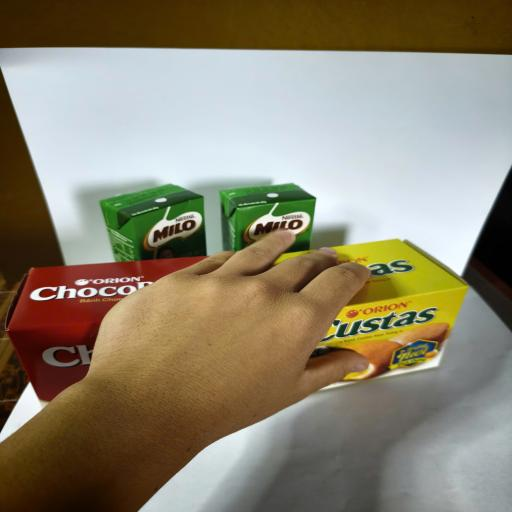chocopie: (6, 256, 210, 402)
custas: (273, 239, 469, 386)
milo: (99, 183, 207, 262), (219, 182, 316, 254)
